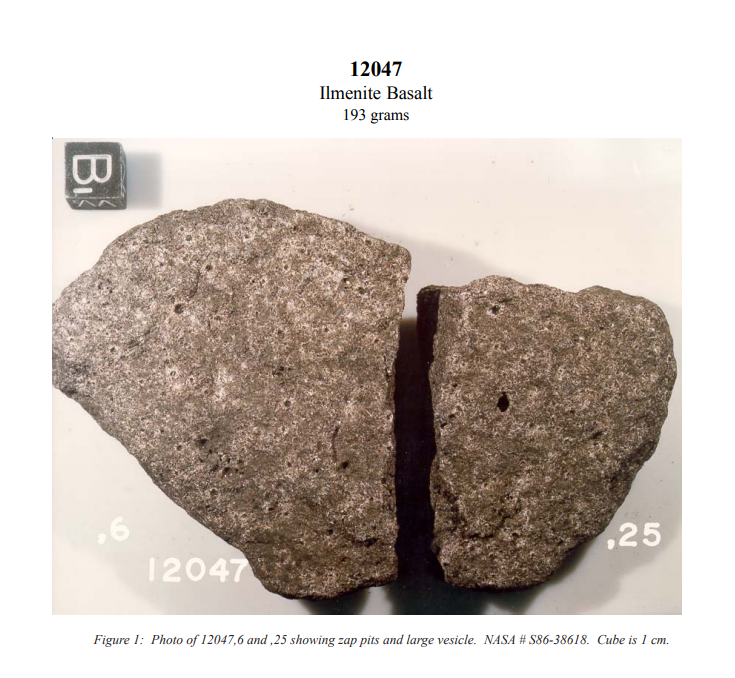Basalt: (55, 215, 409, 592), (430, 258, 661, 593), (131, 274, 346, 466), (467, 335, 616, 510)
